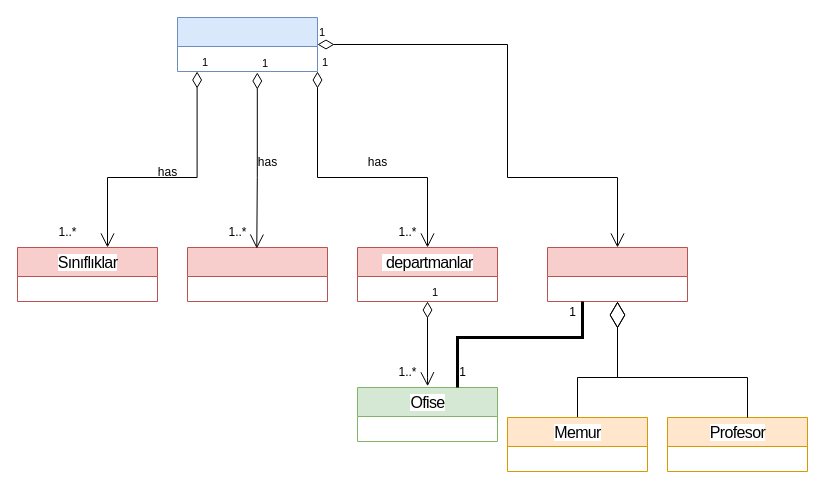
Image size: 825x489. Some labels were removed from this diagram. Here are the shapes that lost their labels. From the top down, the centre of each, then its label:
At point 247,44: "Universite".
At point 257,274: "çalışma ofisleri".
At point 617,274: "Calisanlar".
